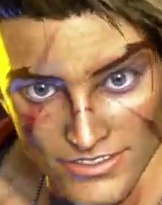kevin: (7, 1, 161, 204)
